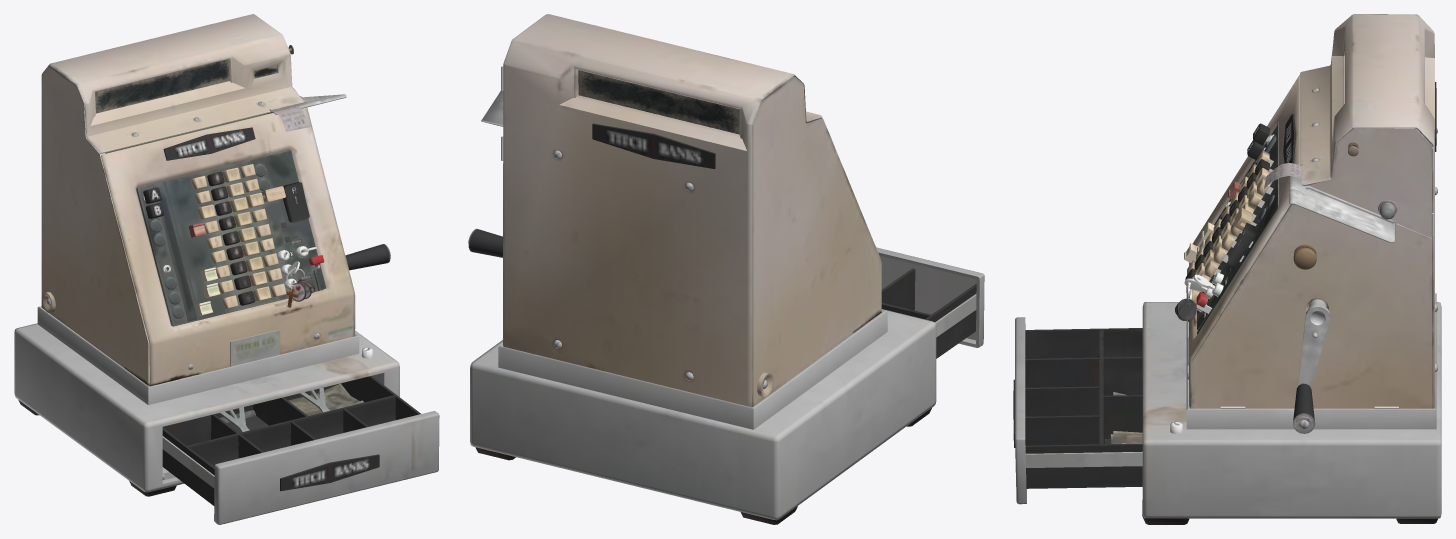
The model's file is CashRegister_01.glb.
3 views of the same model, side by side, from view 1: azimuth 30°, elevation 25°; view 2: azimuth 150°, elevation 25°; view 3: azimuth 270°, elevation 25° (orthographic). The views are drawn at different scales.
Visible parts, largest first — view 1: CashRegister_01_body; view 2: CashRegister_01_body; view 3: CashRegister_01_body.
Boxes of the visible parts, <box> form: CashRegister_01_body: <box>14,14,439,524</box>; CashRegister_01_body: <box>468,14,984,524</box>; CashRegister_01_body: <box>1013,14,1441,524</box>.
Size of the model in its own units: 0.6005 by 0.6212 by 0.6242.
Materials: 2 (2 with a texture image).
